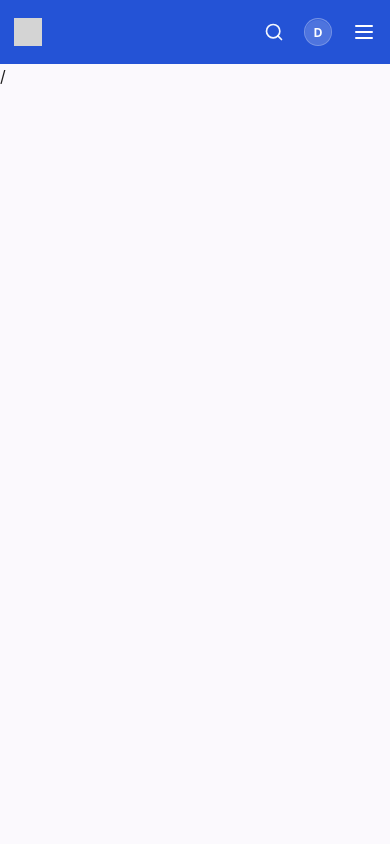
Test case: PublicHeader › preserves mobile menu, message, and account routes for designer
This screenshot has width=390, height=844.
Click the button named "Mở menu" at point(364, 32), box [352,20,376,44]
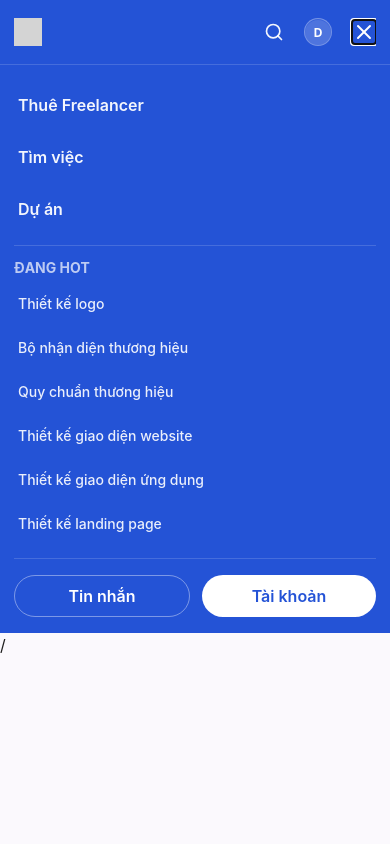
Check: the text "Đang Hot" is shown, box [14,259,90,276]
Click the button "Tin nhắn" at point(102, 596), box [14,575,190,617]
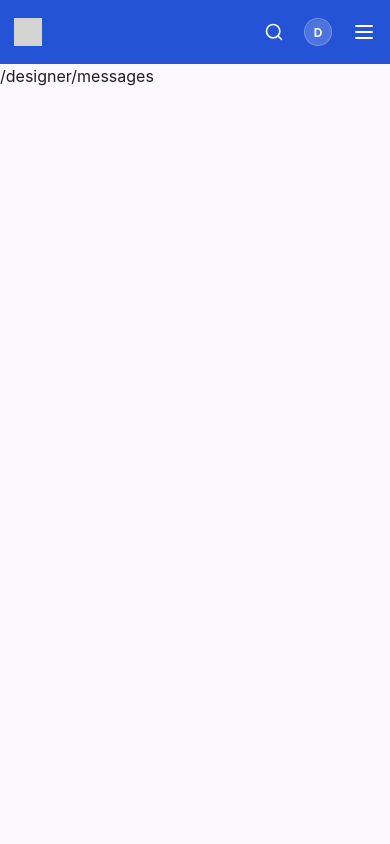
Check: the text with test id "current-location" reads "/designer/messages", box [0,66,154,86]
Click the button named "Mở menu" at point(364, 32), box [352,20,376,44]
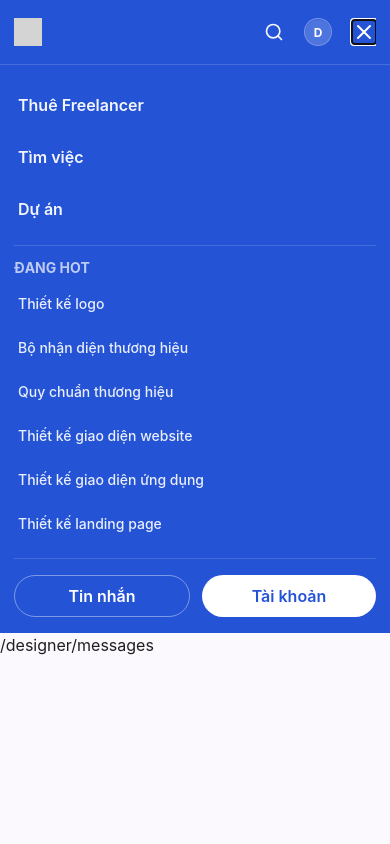
Click the button "Tài khoản" at point(289, 596), box [202,575,376,617]
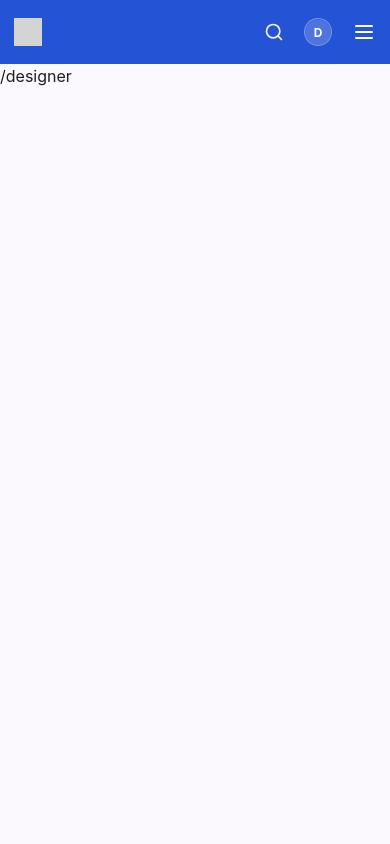
Check: the text with test id "current-location" reads "/designer", box [0,66,72,86]
